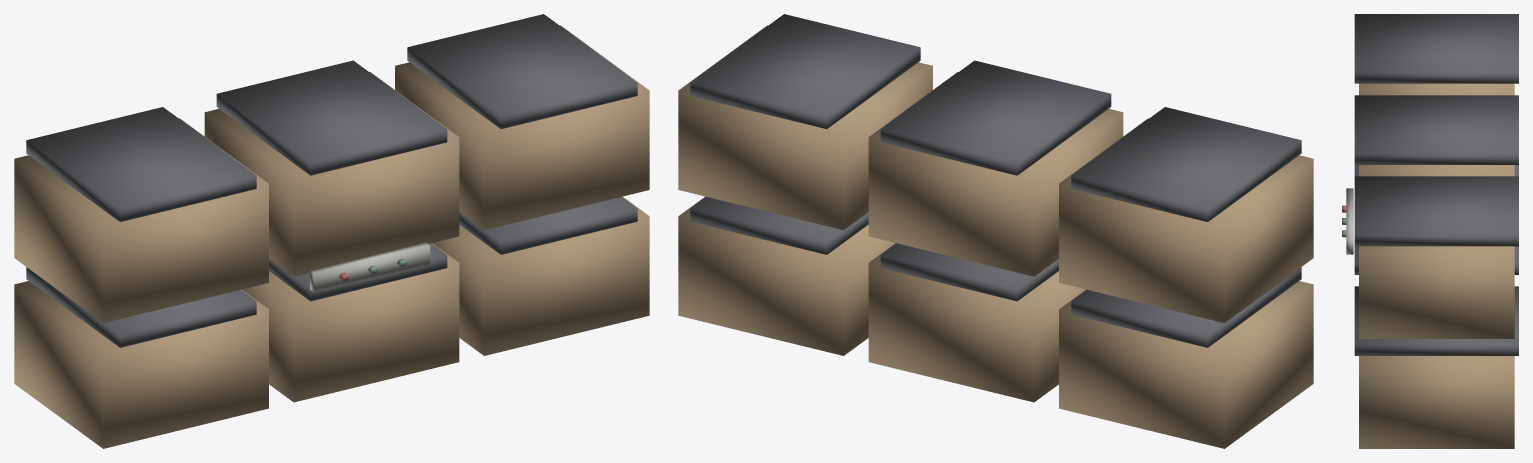
File: produce_stand__squat.glb
3 views of the same model, side by side, from view 1: azimuth 30°, elevation 25°; view 2: azimuth 150°, elevation 25°; view 3: azimuth 270°, elevation 25° (orthographic). The views are drawn at different scales.
Parts seen in each view (by area): view 1: world; view 2: world; view 3: world.
Part boxes in pixels (x1,y1,x2,y2): world: (14,14,649,448); world: (678,14,1313,448); world: (1342,14,1518,448).
Bounding box in the file's own units: 1.45 × 0.6048 × 0.4655.
